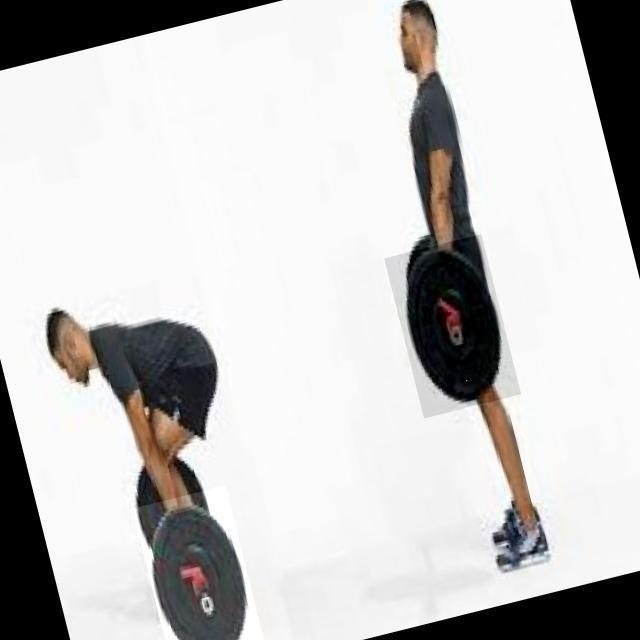barbell: (385, 235, 522, 419), (132, 486, 267, 640)
